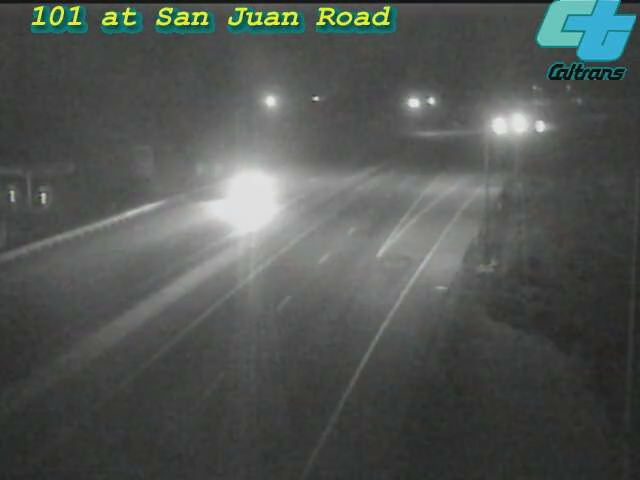vehicle: (205, 152, 285, 232), (516, 103, 566, 153), (472, 102, 522, 152), (494, 98, 544, 148)
